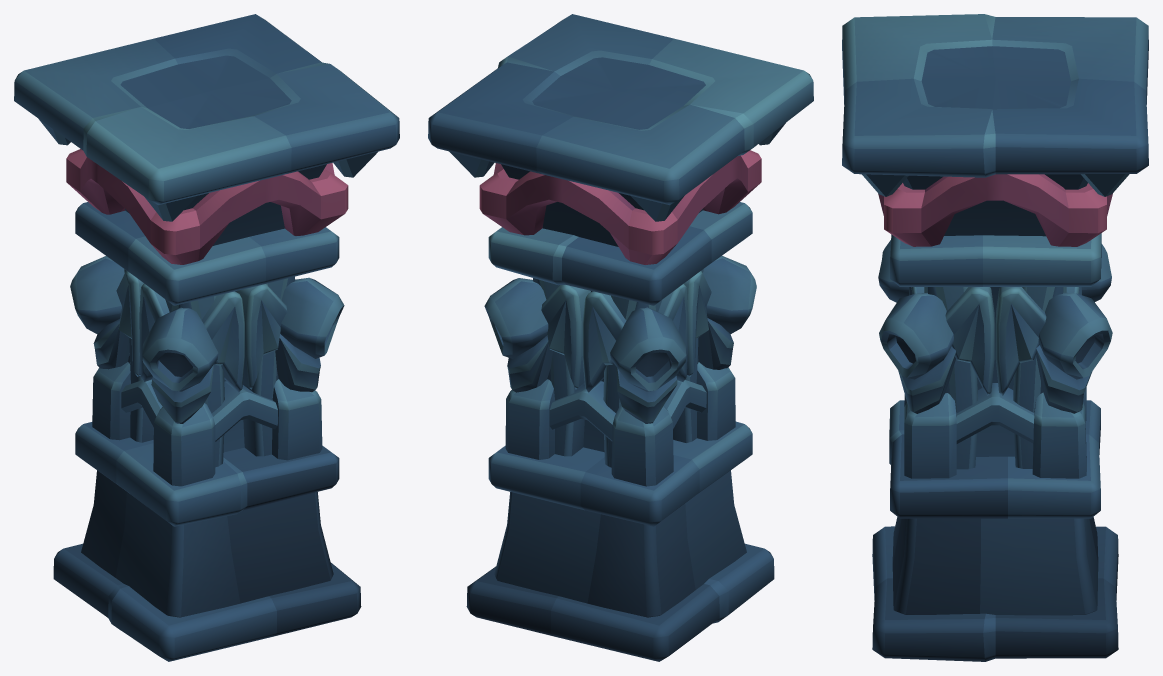
File: pillar.fbx
3 renders of one model, left to right at view 1: azimuth 30°, elevation 25°; view 2: azimuth 150°, elevation 25°; view 3: azimuth 270°, elevation 25°, orthographic. The views are drawn at different scales.
Parts seen in each view (by area): view 1: pillar; view 2: pillar; view 3: pillar.
Boxes of the visible parts, <box> form: pillar: <box>14,14,399,661</box>; pillar: <box>428,14,813,661</box>; pillar: <box>842,14,1148,661</box>.
Bounding box in the file's own units: 211 × 408 × 210.
